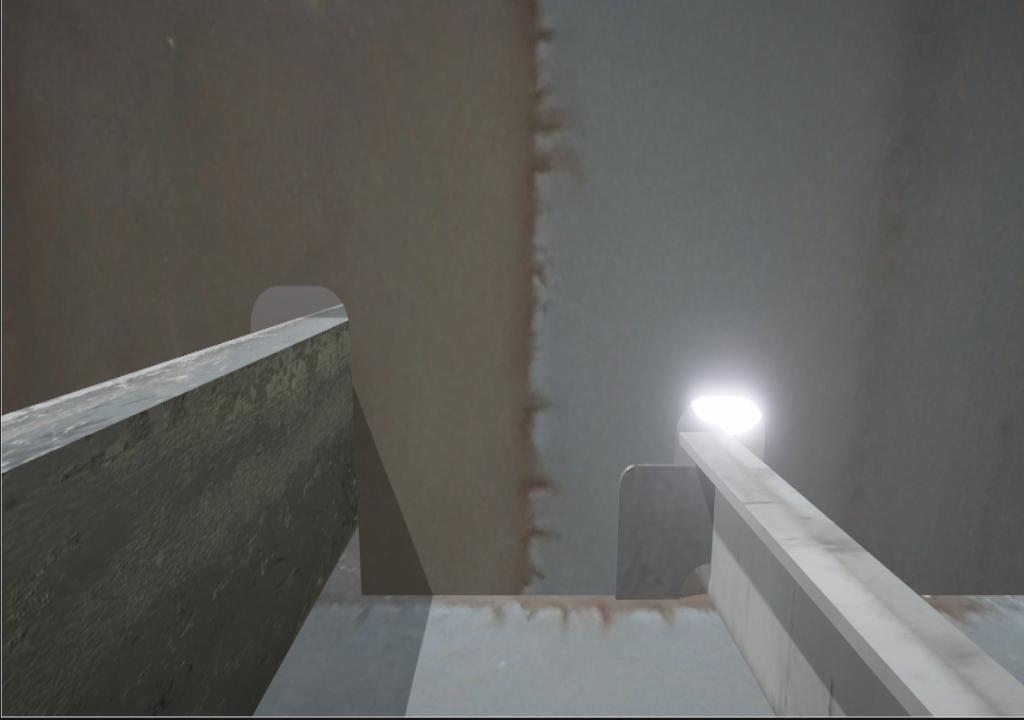fillet_yong_jeop_jang: (360, 589, 614, 602)
longi_yong_jeop_jang: (614, 464, 715, 601)
